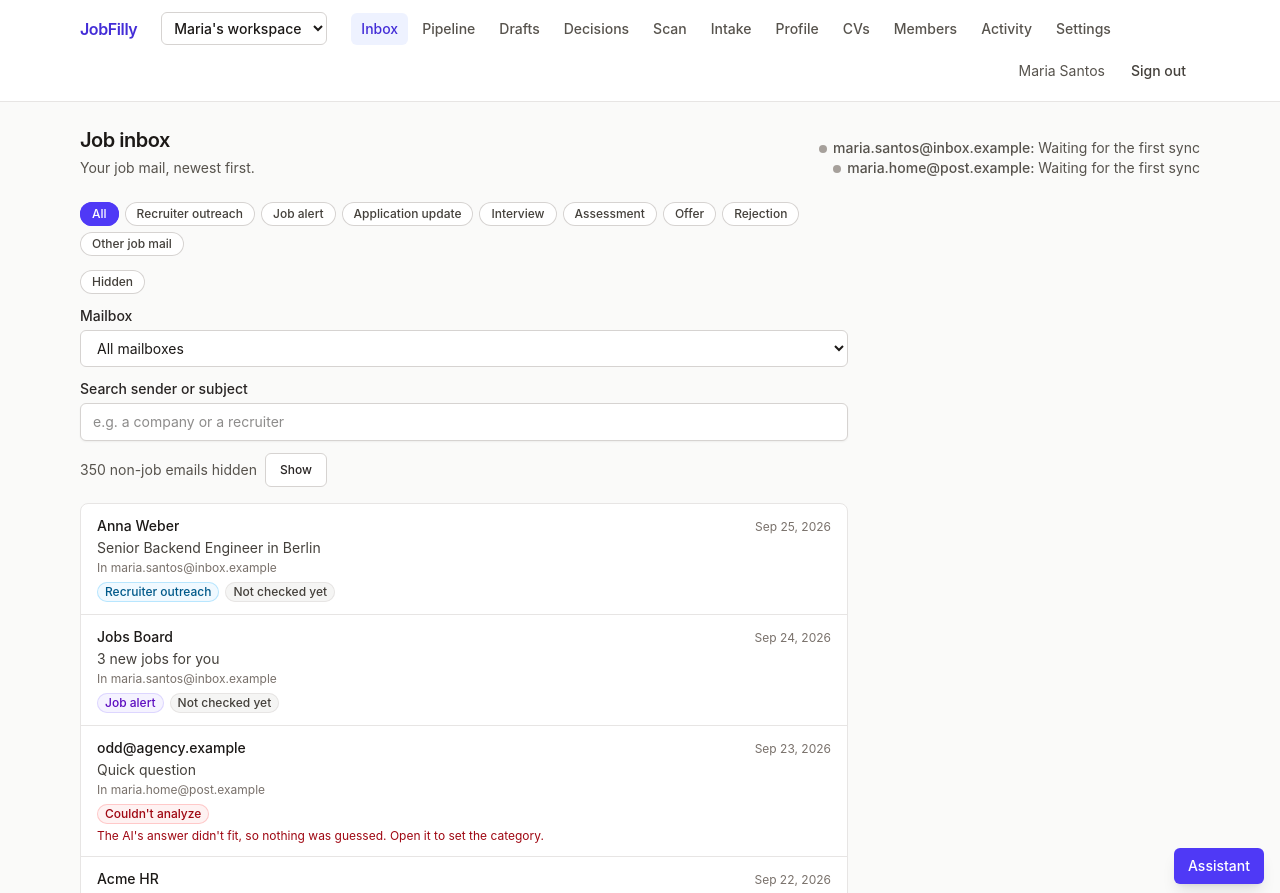
several mailboxes (MVP 3, F3.1) › names each message's mailbox, and filters by mailbox
The width and height of the screenshot is (1280, 893).
Select "maria.home@post.example" in the dropdown labelled "Mailbox" at [464, 348], box [80,330,848,367]
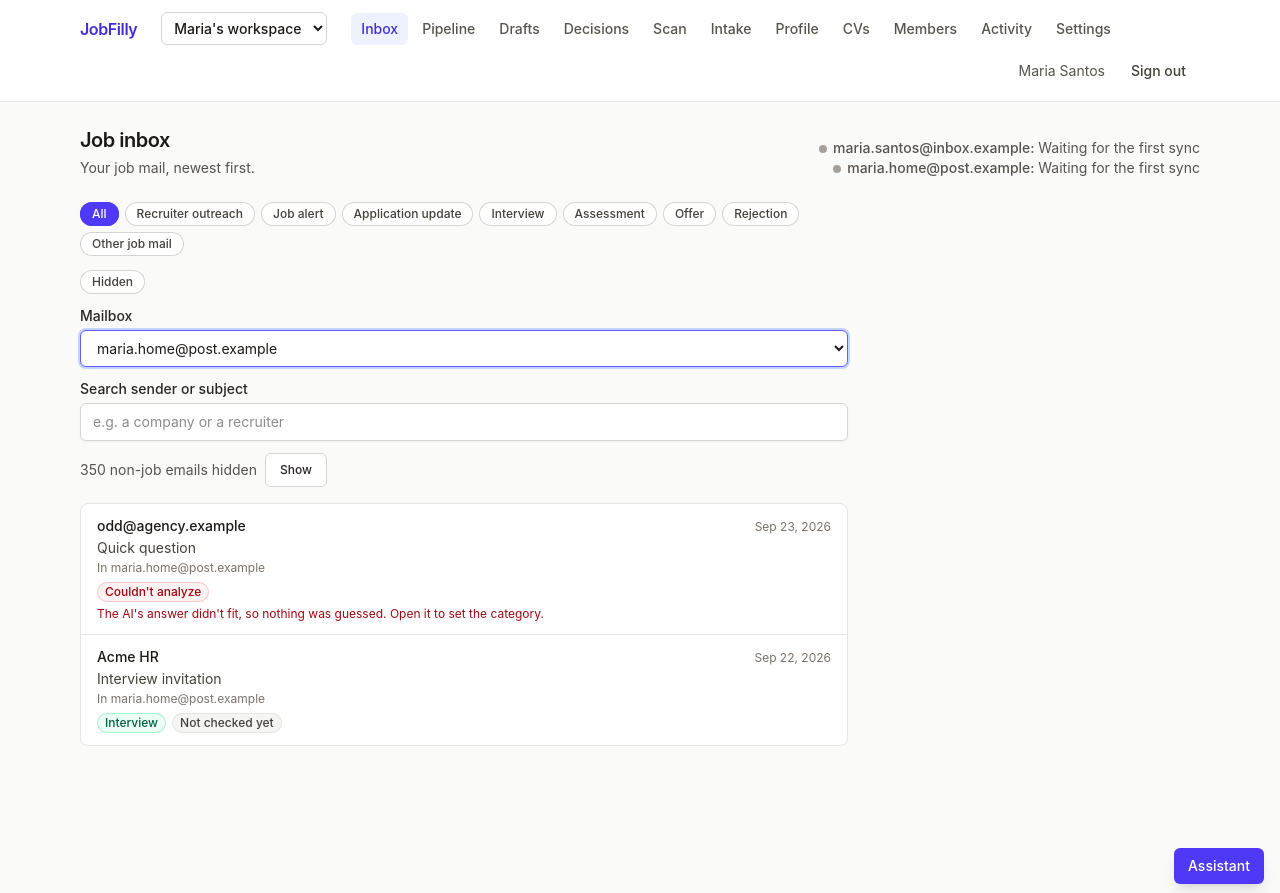
expect the link "Anna Weber" is gone: met
Select "All mailboxes" in the dropdown labelled "Mailbox" at [464, 348], box [80,330,848,367]
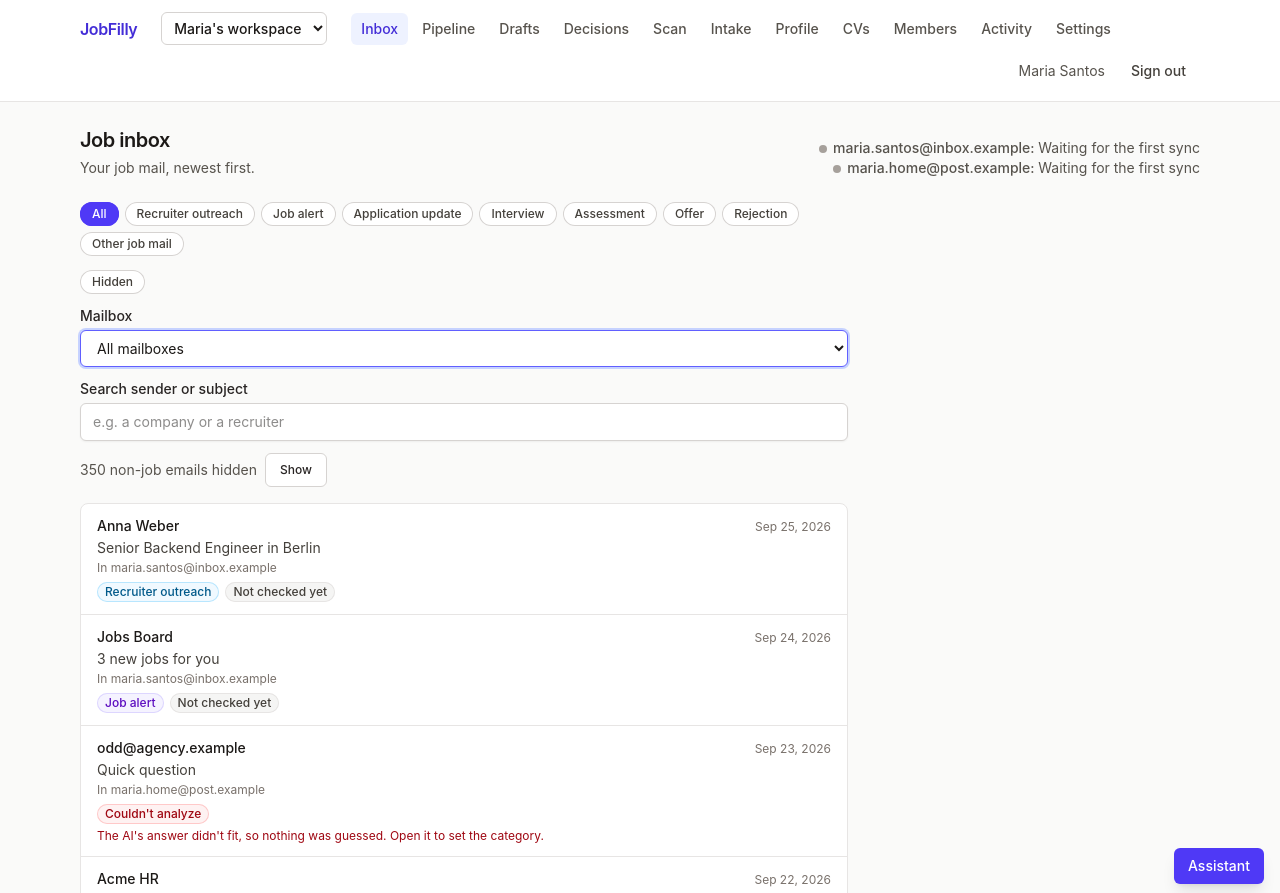
expect the text "Anna Weber" is shown: met, box [97,516,179,536]
